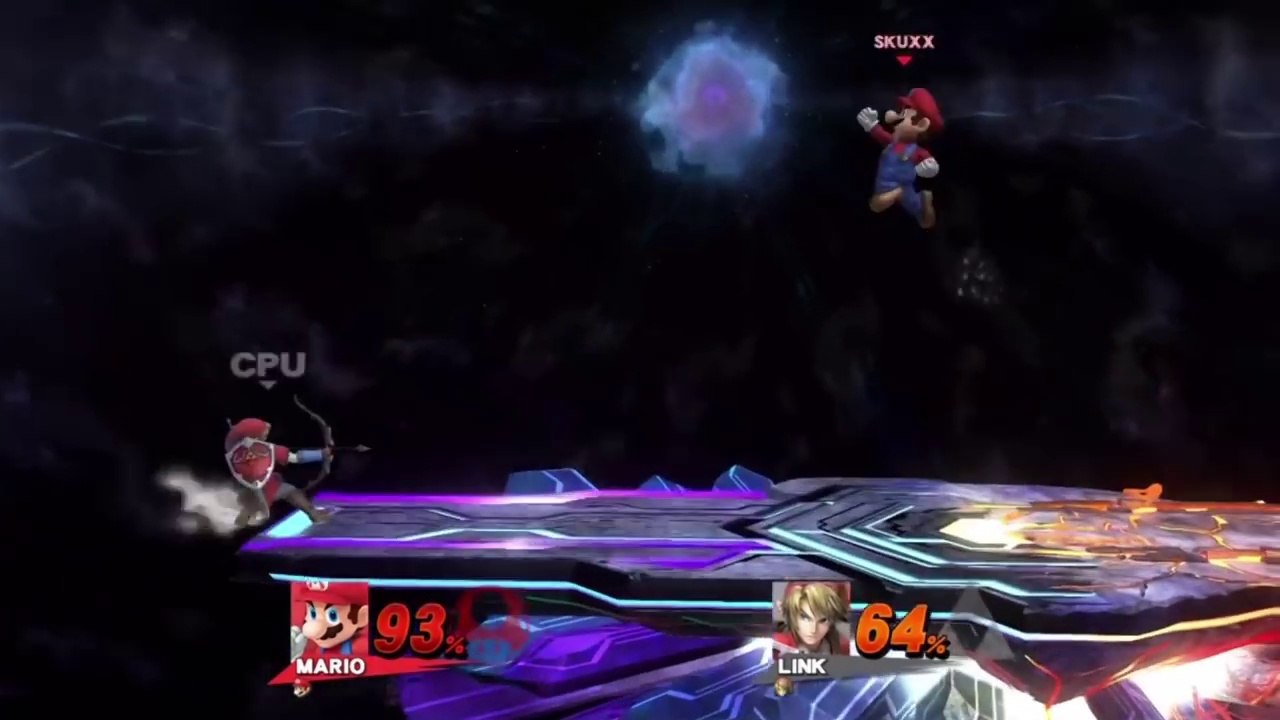Mario: (857, 83, 943, 225)
